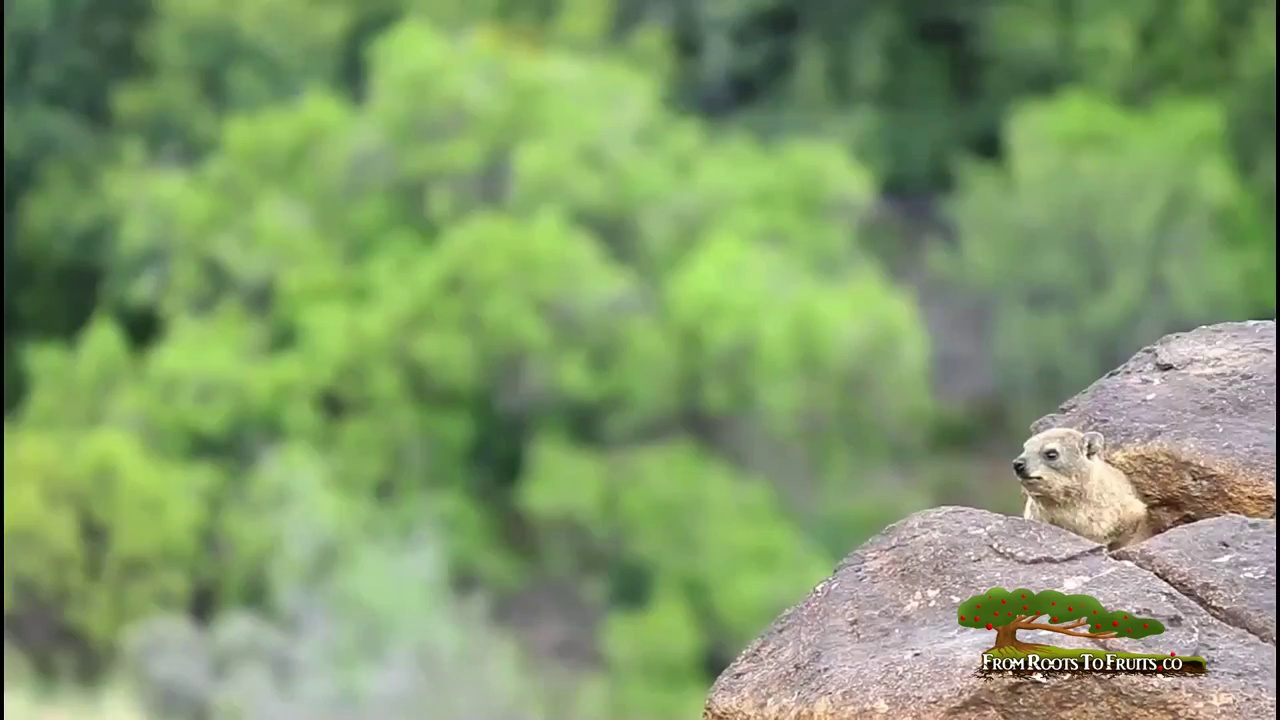Rock Hyrex: (1011, 425, 1151, 559)
